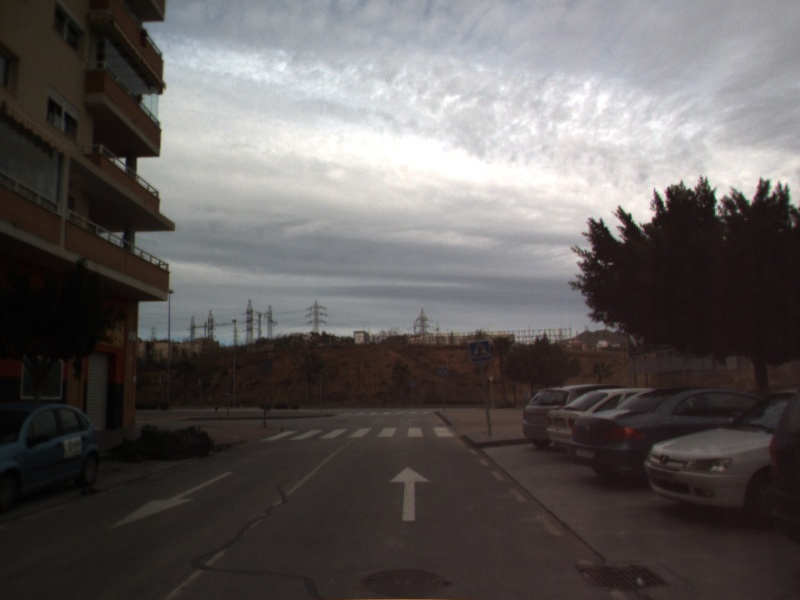STRAIGHT: (388, 464, 432, 523)
